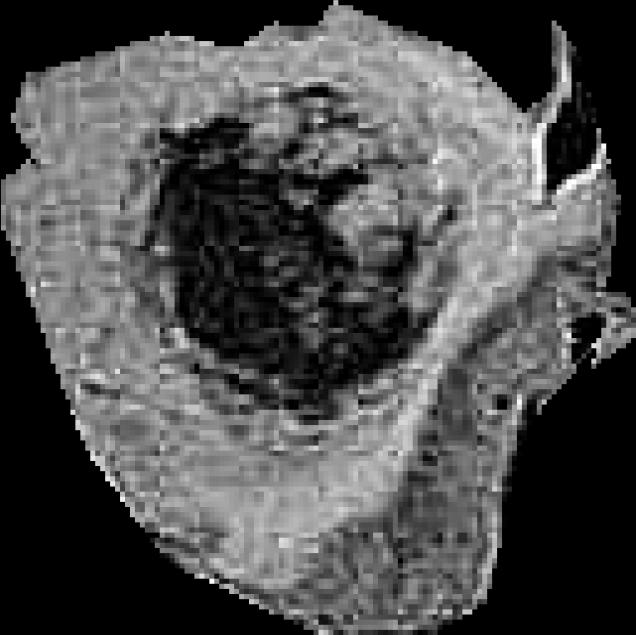tumor_moderate_chance: (1, 0, 636, 635)
